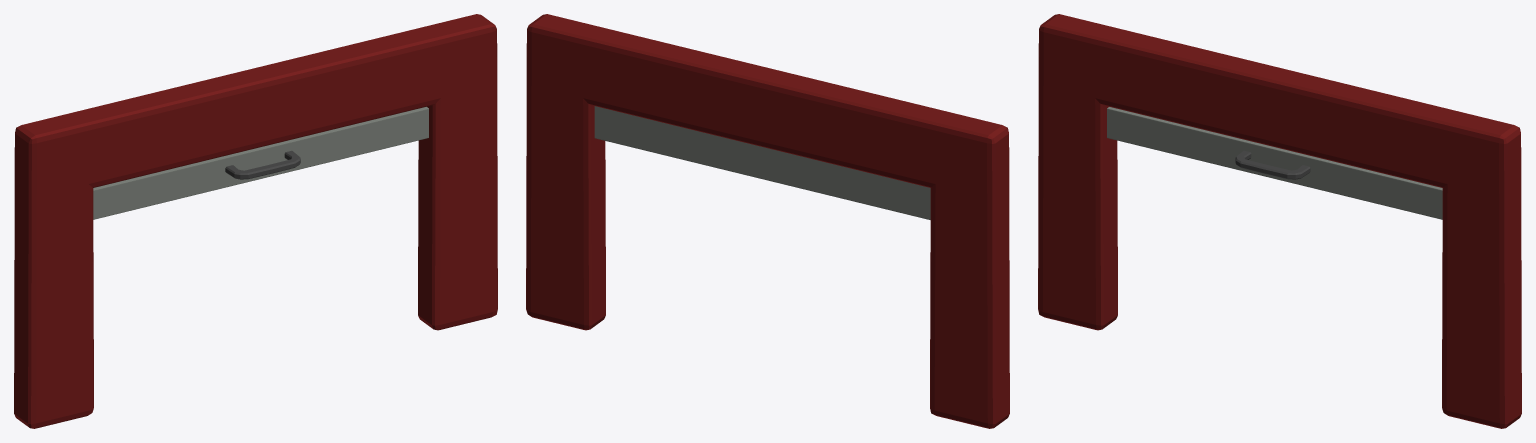
Rendered from Bay Door.fbx.
3 views of the same model, side by side, from view 1: azimuth 30°, elevation 25°; view 2: azimuth 150°, elevation 25°; view 3: azimuth 330°, elevation 25° (orthographic).
Visible parts, largest first — view 1: Cube; view 2: Cube; view 3: Cube.
Part boxes in pixels (left/top/right/bottom): Cube: left=14, top=14, right=497, bottom=428; Cube: left=526, top=14, right=1009, bottom=428; Cube: left=1038, top=14, right=1521, bottom=428.
Size of the model in its own units: 3541 by 2113 by 325.
